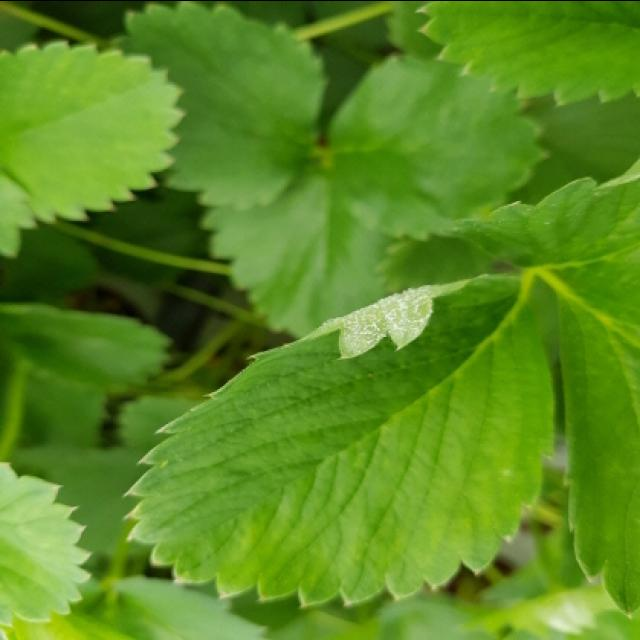Powdery Mildew Leaf: (121, 273, 554, 608)
